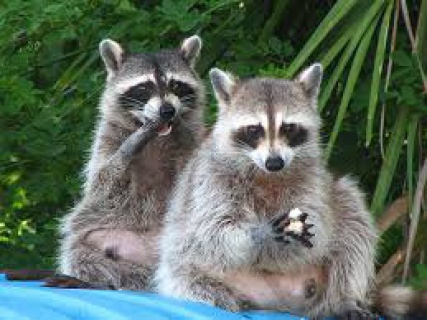Raccoon: (140, 54, 387, 318), (46, 34, 207, 298)
